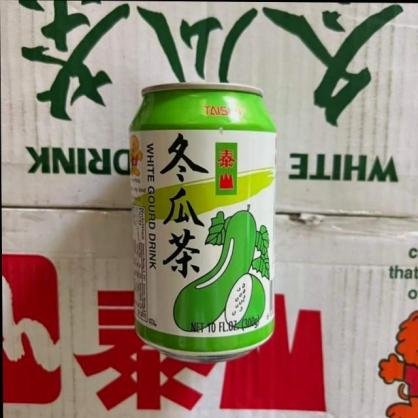can: (129, 80, 276, 364)
